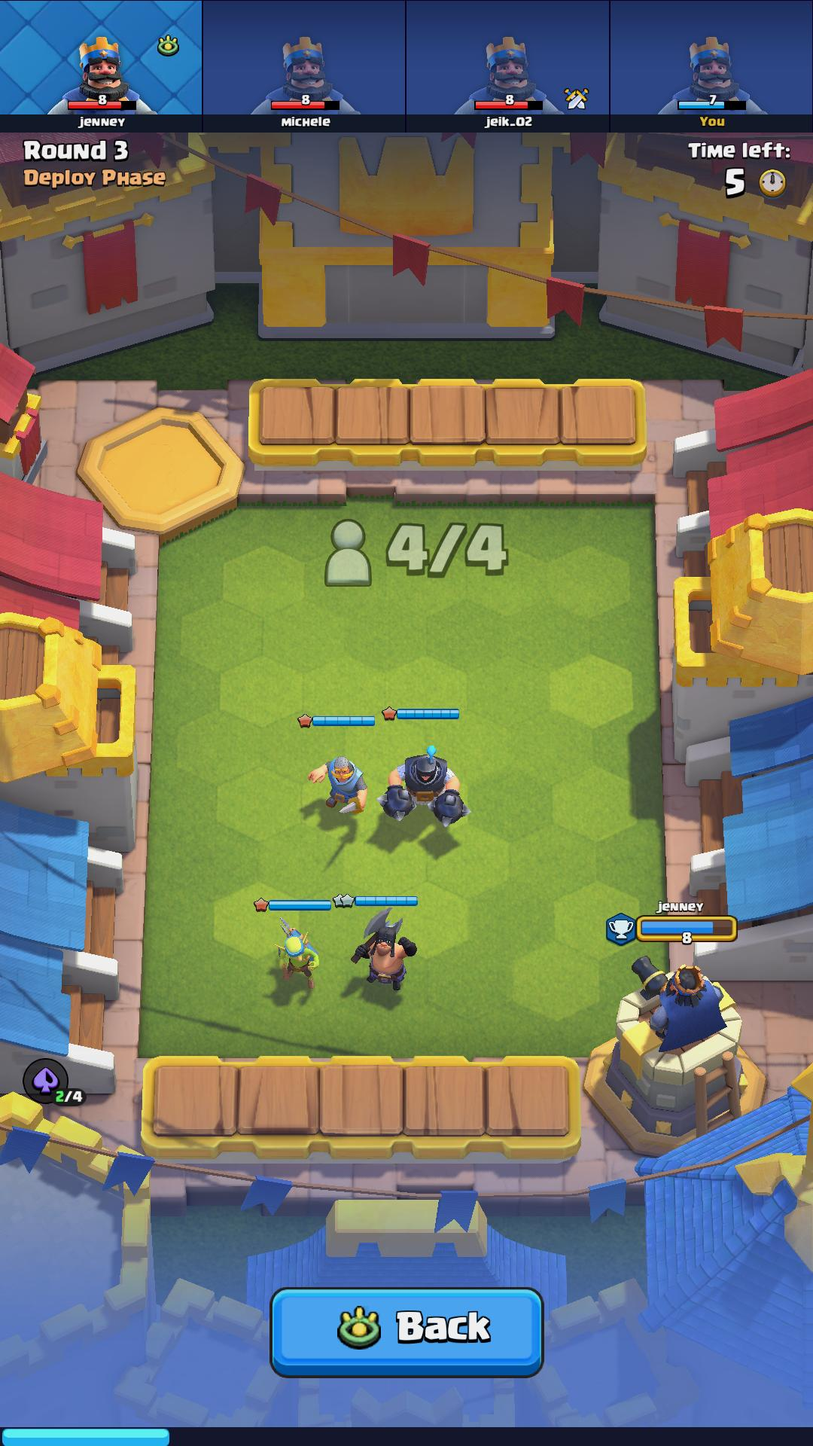executioner: (346, 908, 423, 997)
knight: (307, 747, 379, 821)
mega: (383, 746, 470, 843)
spear: (263, 919, 334, 985)
